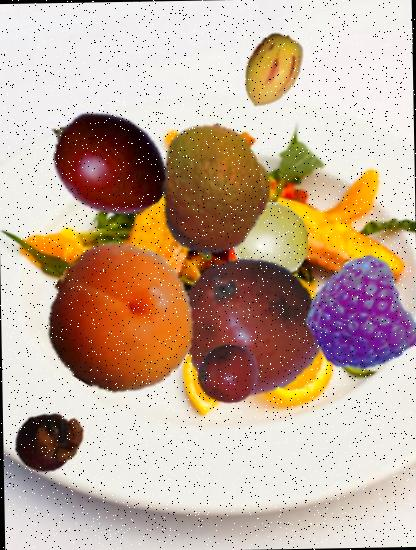Apricot: (46, 243, 197, 394)
Grape: (230, 201, 308, 280)
Mandarine: (148, 122, 283, 257)
Mangostan: (14, 405, 86, 478)
Pepino: (232, 30, 312, 110)
Pomegranate: (179, 254, 322, 396), (196, 342, 259, 405)
Raspberry: (304, 262, 415, 373)
Tamarillo: (41, 97, 173, 228)
